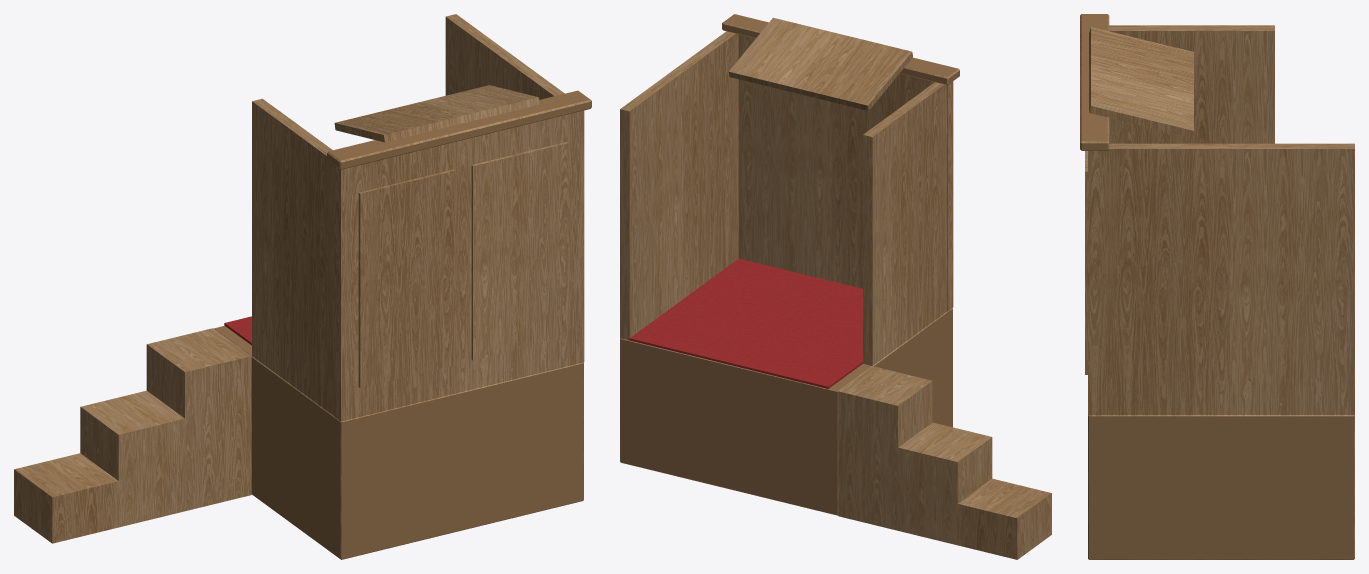
File: pulpit.glb
3 views of the same model, side by side, from view 1: azimuth 30°, elevation 25°; view 2: azimuth 150°, elevation 25°; view 3: azimuth 270°, elevation 25° (orthographic). The views are drawn at different scales.
Parts seen in each view (by area): view 1: pulpit; view 2: pulpit; view 3: pulpit.
Boxes of the visible parts, x1,y1,x2,y2 form: pulpit: [14, 14, 591, 559]; pulpit: [620, 14, 1051, 559]; pulpit: [1080, 14, 1354, 559].
Size of the model in its own units: 2.02 by 1.79 by 1.03.
2 materials, 2 textured.
